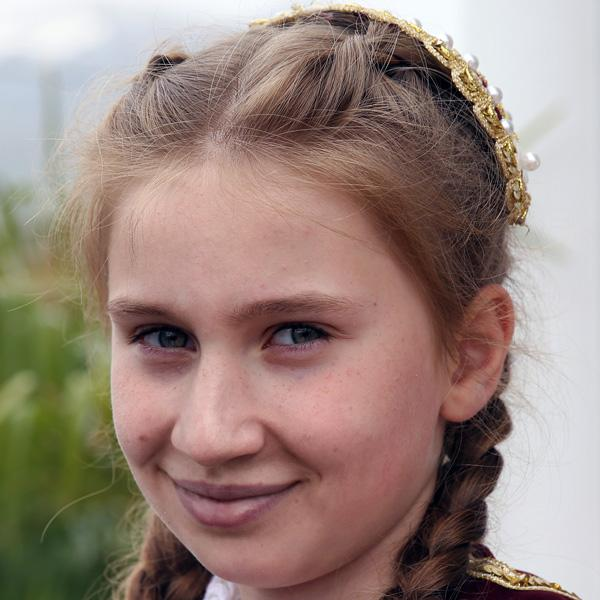Eyes: (244, 311, 345, 368), (117, 313, 203, 367)
